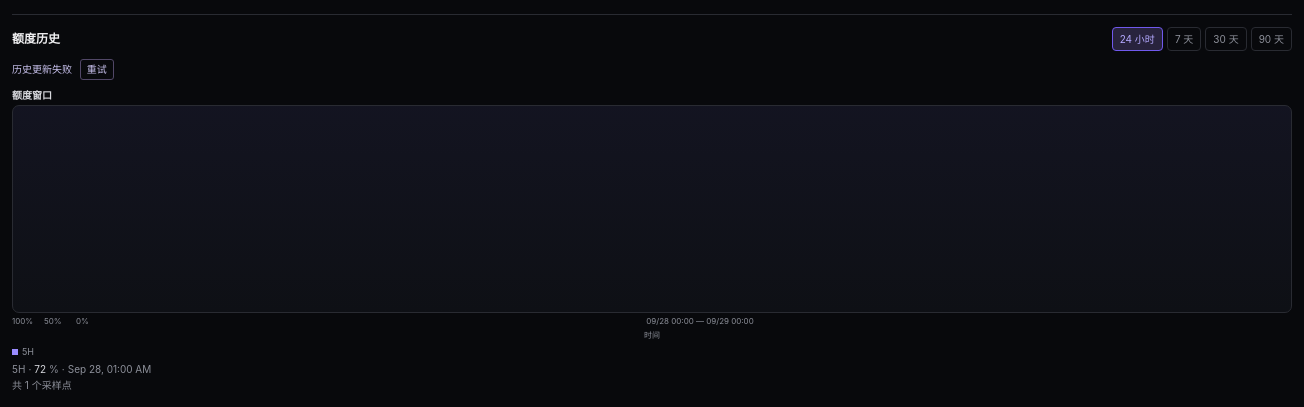
Scenario: QuotaHistory › keeps old data on same-range refresh failure and can retry
This screenshot has width=1304, height=407.
expect the text "历史更新失败" is shown: met, box [12,63,75,75]
expect the text "72" is shown: met, box [34,362,46,376]
What coordinates should you click on to do the following:
click the button with aria-label "重试历史"
I would click on:
 (97, 69)
Its box is [80,59,114,80].
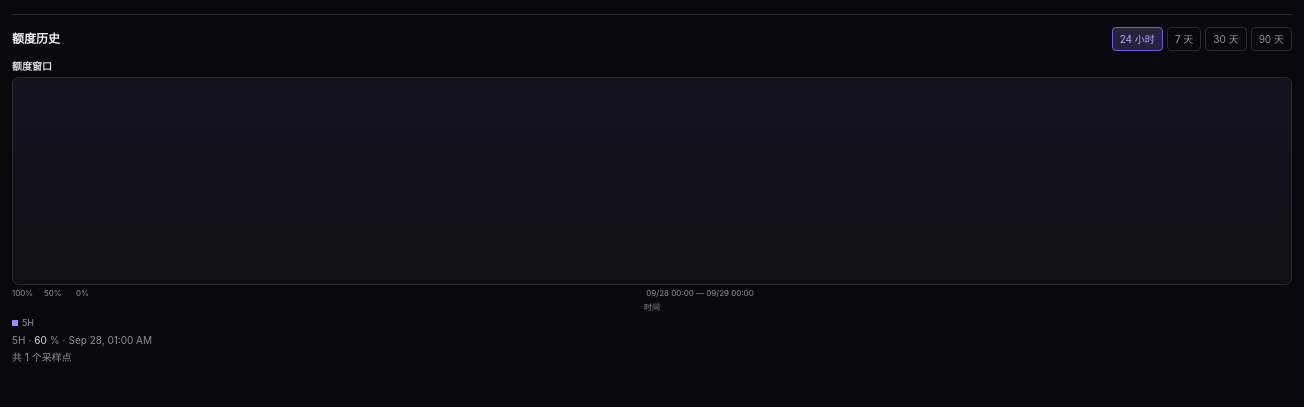
expect the text "60" is shown: met, box [34,333,47,348]
